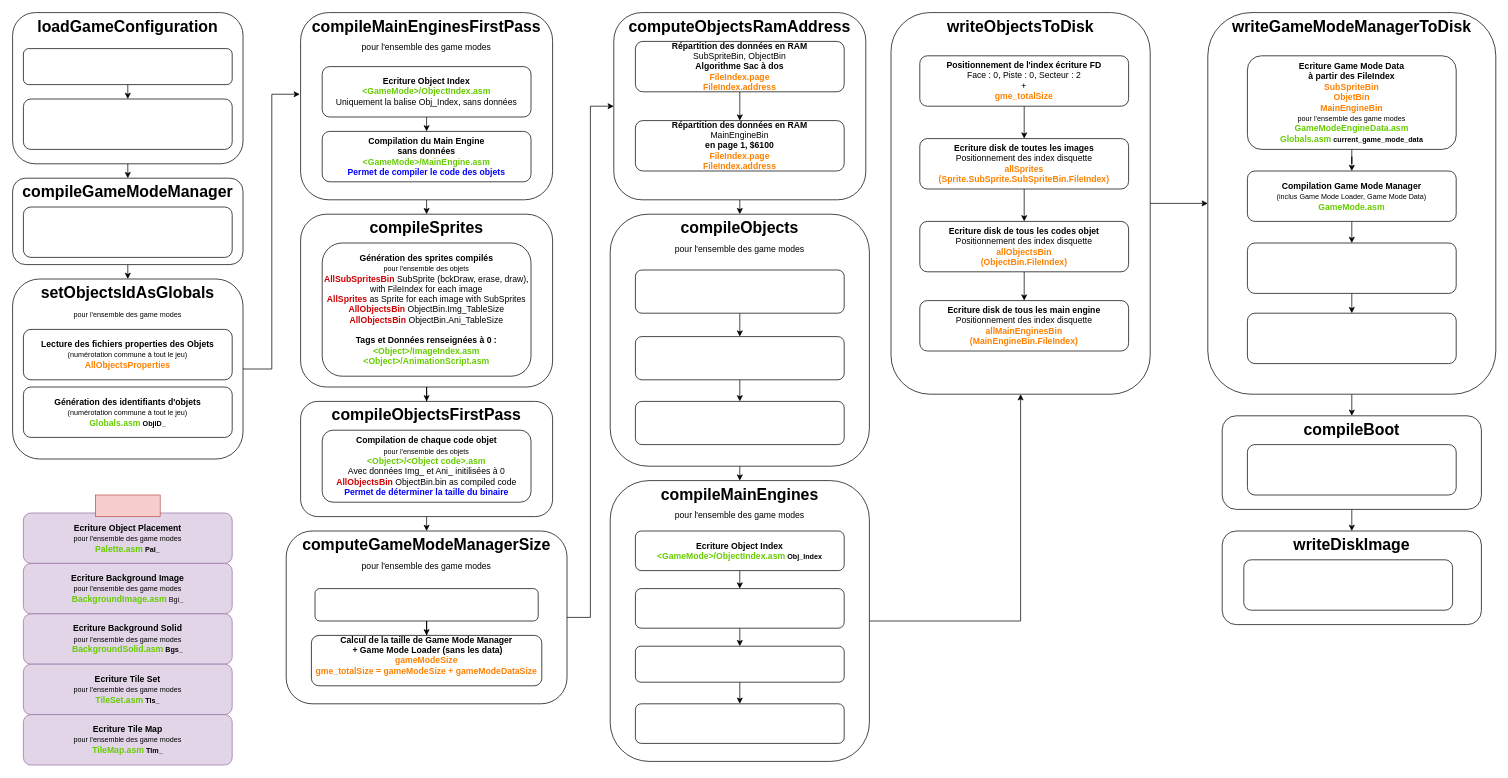
Image size: 1508x778. Some labels were removed from this diagram. Here are the shapes that lost their labels. From the top down, the centre of each, then its label:
(x=127, y=66): Lecture du fichier properties principal MainProperties
(x=127, y=123): Lecture des fichiers properties des Game Modes AllGameModesProperties
(x=127, y=231): Compilation du Game Mode Manager GameModeManager.asm
(x=1351, y=267): Positionnement de l'index écriture FD Face : 0, Piste : 0, Secteur : 2
(x=739, y=291): Ecriture Image Index <Object>/ ImageIndex.asm Img_
(x=739, y=358): Ecriture Animation Script <Object>/ AnimationScript.asm Ani _
(x=1351, y=338): Ecriture disk de Game Mode Manager (inclus Game Mode Loader, Game Mode Data)
(x=739, y=423): Compilation de chaque code objet AllObjectsBin.bin <Object>/<Object code>.asm
(x=1351, y=469): Compilation du code de Boot Boot.asm
(x=127, y=505): Evolutions
(x=426, y=604): Calcul de la taille des Game Mode Data gameModeDataSize
(x=1348, y=584): Génération de l'image disquette FD et SD Disk.fd Disk.sd
(x=739, y=608): Génération & Ecriture Palette Palette.asm Pal_
(x=739, y=663): Ecriture Load Act <GameMode>/ LoadAct.asm LoadAct
(x=739, y=723): Compilation de chaque code Main Engine <GameMode>/MainEngine.asm
